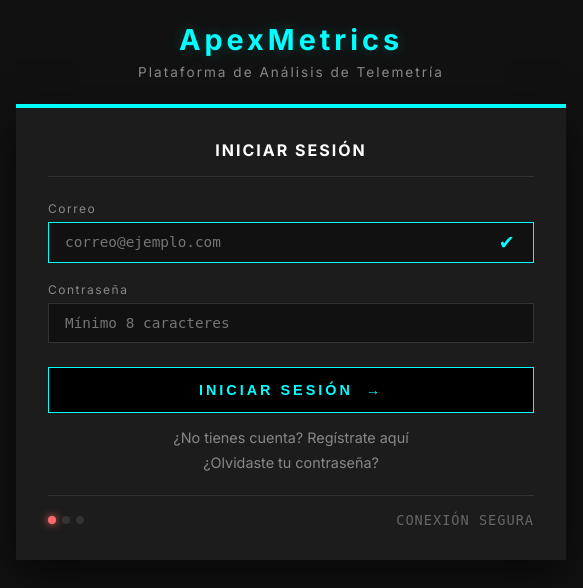
Test case: Login — integración con API › muestra error de conexión cuando la API falla por red
In the field with placeholder "correo@ejemplo.com": (291,242) x1=48 y1=222 x2=534 y2=262, type "piloto@apex.sim"
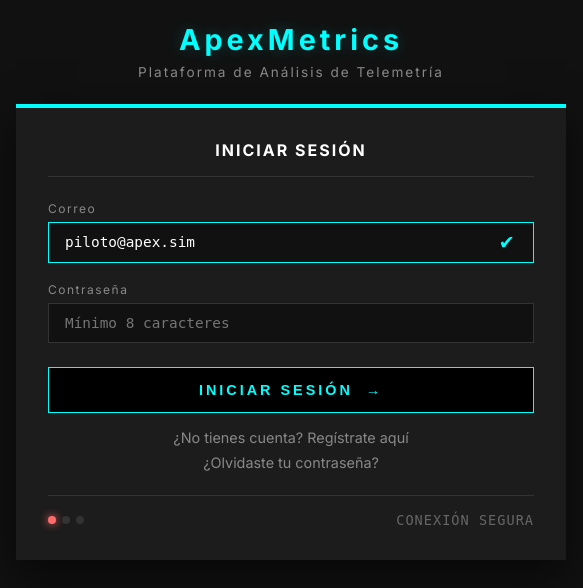
In the password field with placeholder "Mínimo 8 caracteres": (291,323) x1=48 y1=303 x2=534 y2=344, type "clave_valida_para_test_larga"
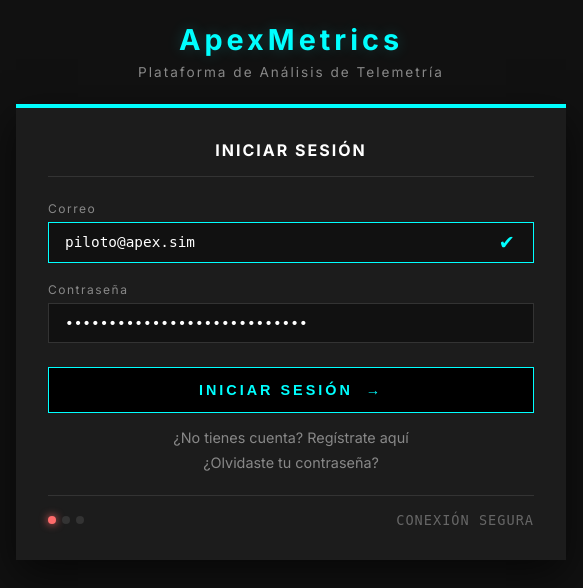
Click the button "INICIAR SESIÓN →": (291,390) x1=48 y1=368 x2=534 y2=413
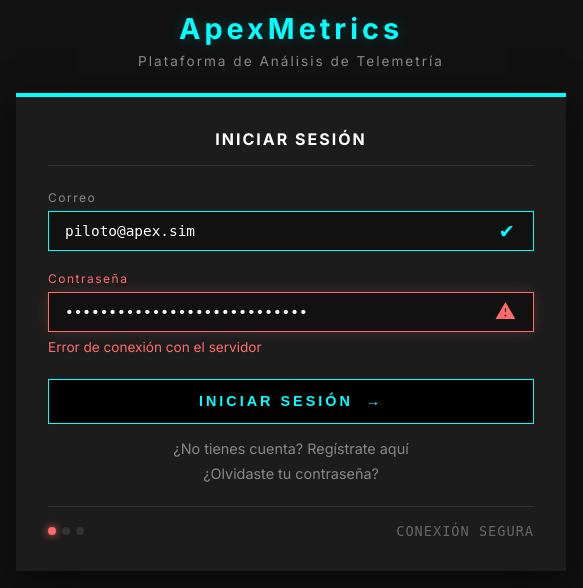
Expected: the text "Error de conexión con el servidor" is shown, x1=48 y1=339 x2=262 y2=355
